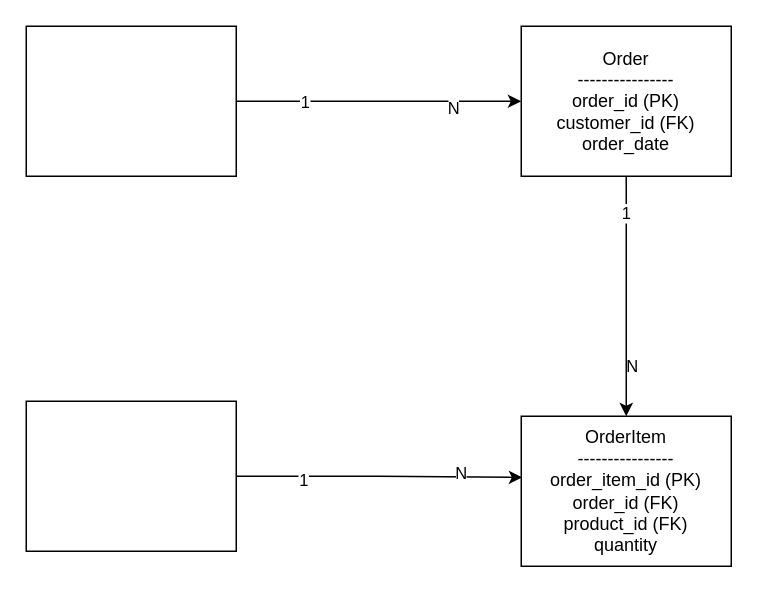
Image size: 758x593. Some labels were removed from this diagram. The shapes that lost their labels are listed below. From the top down, each one's centre as x and y in pixels, then its label:
At (130,100): "Customer ---------------- customer_id (PK) name email".
At (130,475): "Product ---------------- product_id (PK) name price".
